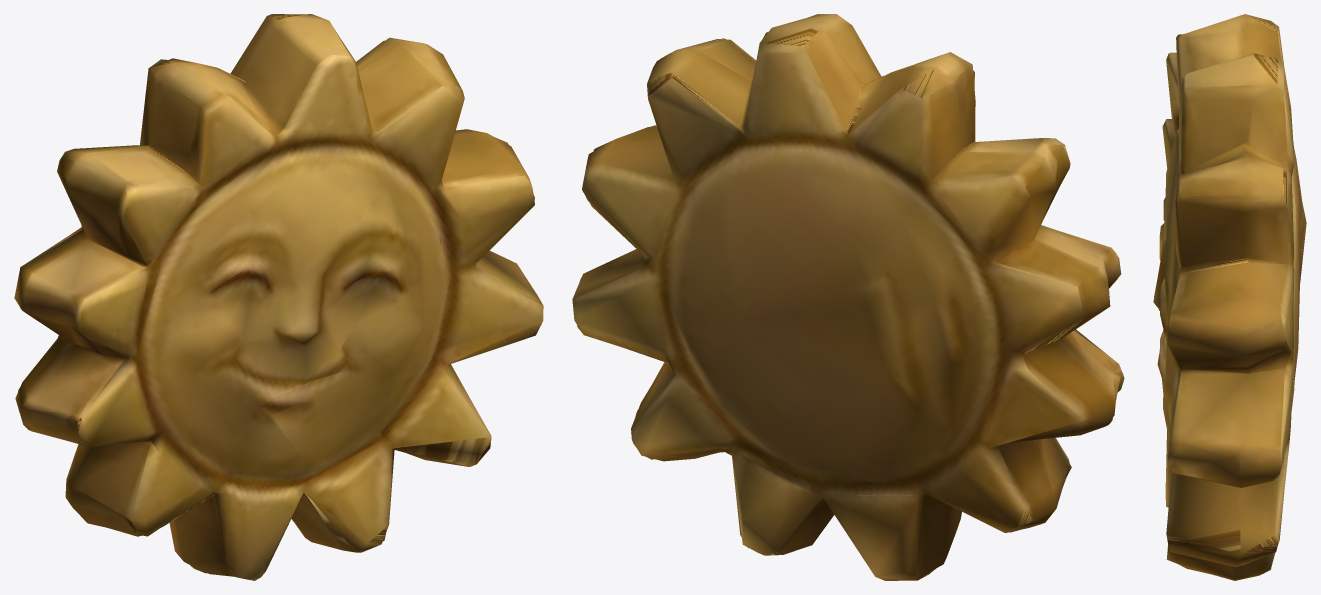
Rendered from sun.glb.
3 renders of one model, left to right at view 1: azimuth 30°, elevation 25°; view 2: azimuth 150°, elevation 25°; view 3: azimuth 270°, elevation 25°, orthographic. The views are drawn at different scales.
Parts seen in each view (by area): view 1: geometry_0; view 2: geometry_0; view 3: geometry_0.
Boxes of the visible parts, x1,y1,x2,y2 form: geometry_0: [14, 14, 543, 580]; geometry_0: [572, 14, 1124, 580]; geometry_0: [1153, 14, 1306, 580].
Bounding box in the file's own units: 0.9093 × 0.8915 × 0.2476.
Materials: 1 (1 with a texture image).
